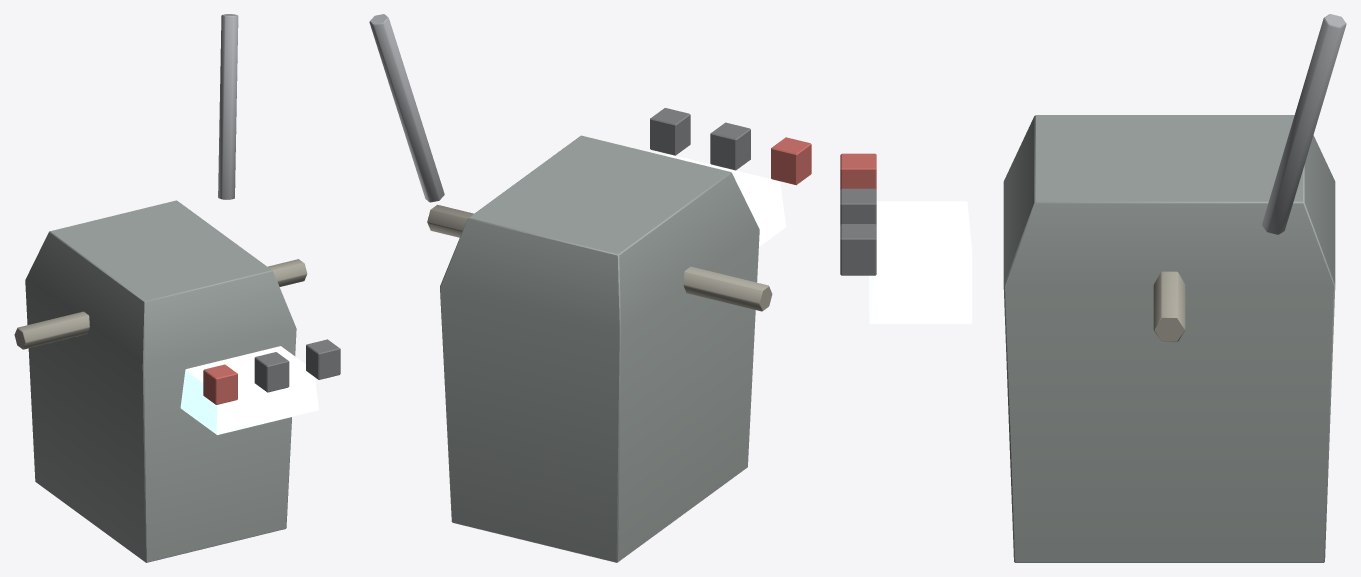
Rendered from IT_geiger.fbx.
3 renders of one model, left to right at view 1: azimuth 30°, elevation 25°; view 2: azimuth 150°, elevation 25°; view 3: azimuth 270°, elevation 25°, orthographic. The views are drawn at different scales.
Visible parts, largest first — view 1: IT_geiger; view 2: IT_geiger; view 3: IT_geiger.
Boxes of the visible parts, <box> form: IT_geiger: <box>14,14,340,562</box>; IT_geiger: <box>369,14,811,562</box>; IT_geiger: <box>840,14,1346,562</box>.
Size of the model in its own units: 0.44 by 0.6226 by 0.4883.
